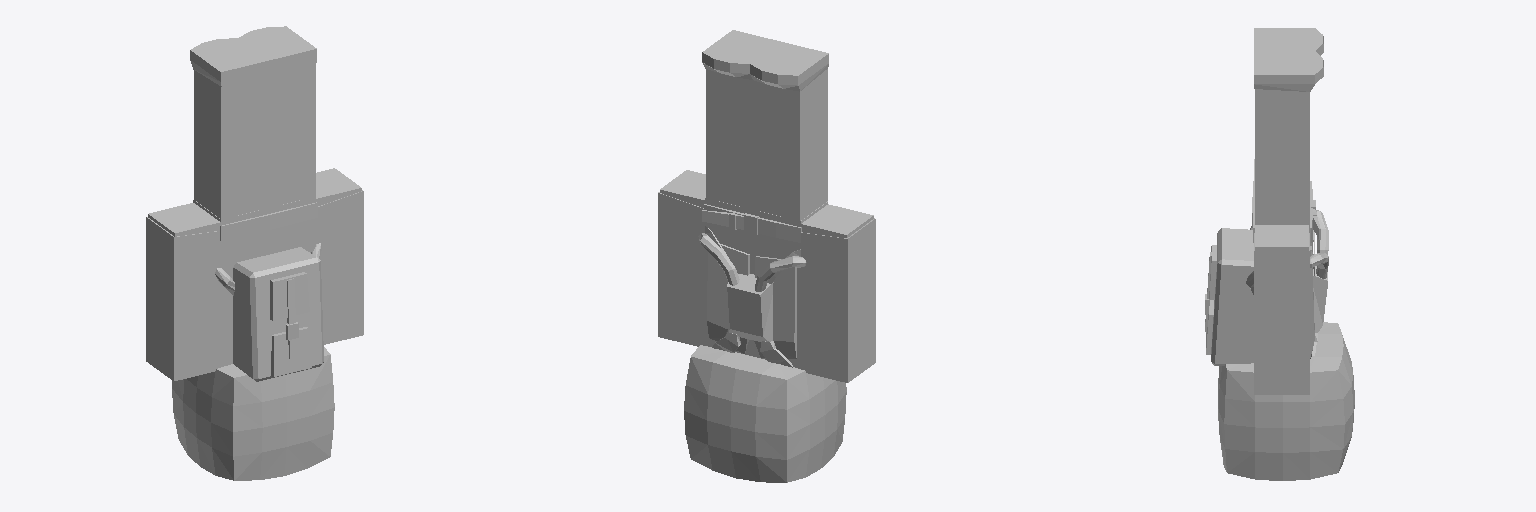
The model's file is stalker.ssp.obj.
3 renders of one model, left to right at view 1: azimuth 30°, elevation 25°; view 2: azimuth 150°, elevation 25°; view 3: azimuth 270°, elevation 25°, orthographic.
Visible parts, largest first — view 1: bodyModel, headModel, rightLegModel, rightArmModel, leftLegModel, leftArmModel, right_arm, left_arm; view 2: headModel, bodyModel, rightLegModel, rightArmModel, leftLegModel, leftArmModel, right_arm, left_arm; view 3: headModel, leftLegModel, bodyModel, leftArmModel, rightLegModel, left_arm.
Part boxes in pixels (x1,y1,x2,y2): bodyModel: (193,197,323,381); headModel: (172,347,334,480); rightLegModel: (190,38,268,219); rightArmModel: (146,217,221,380); leftLegModel: (239,26,316,207); leftArmModel: (316,190,363,344); right_arm: (148,203,220,236); left_arm: (316,168,361,205); headModel: (684,345,846,482); bodyModel: (698,198,827,368); rightLegModel: (750,42,828,220); rightArmModel: (800,218,875,382); leftLegModel: (702,30,780,209); leftArmModel: (658,192,705,346); right_arm: (801,204,873,237); left_arm: (660,170,705,207); headModel: (1218,322,1354,480); leftLegModel: (1254,51,1323,221); bodyModel: (1205,181,1328,365); leftArmModel: (1254,233,1309,394); rightLegModel: (1254,28,1323,55); left_arm: (1255,225,1308,250).
Size of the model in its own units: 16.17 by 33.35 by 11.08.